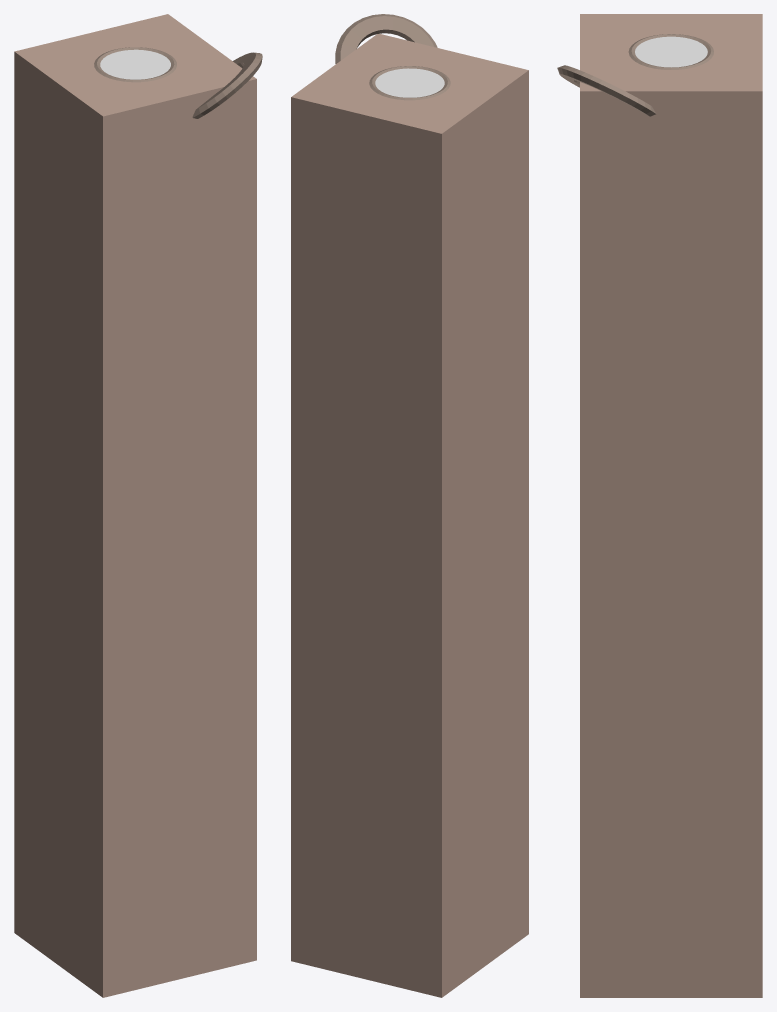
File: CheckPoint.fbx
3 renders of one model, left to right at view 1: azimuth 30°, elevation 25°; view 2: azimuth 150°, elevation 25°; view 3: azimuth 270°, elevation 25°, orthographic. The views are drawn at different scales.
Parts seen in each view (by area): view 1: Plataforma-M (1), Marcador (1), Marcador (1).001, Marco (1); view 2: Plataforma-M (1), Marcador (1).001, Marcador (1), Marco (1); view 3: Plataforma-M (1), Marcador (1), Marcador (1).001, Marco (1).
Boxes of the visible parts, x1,y1,x2,y2 form: Plataforma-M (1): (14, 14, 256, 997); Marcador (1): (100, 49, 170, 79); Marcador (1).001: (192, 52, 262, 118); Marco (1): (94, 47, 176, 82); Plataforma-M (1): (291, 33, 528, 997); Marcador (1).001: (335, 14, 437, 63); Marcador (1): (375, 68, 444, 97); Marco (1): (369, 66, 450, 100); Plataforma-M (1): (580, 14, 762, 997); Marcador (1): (635, 36, 707, 67); Marcador (1).001: (557, 65, 655, 116); Marco (1): (628, 34, 713, 69).
Size of the model in its own units: 1360 by 6792 by 1366.
